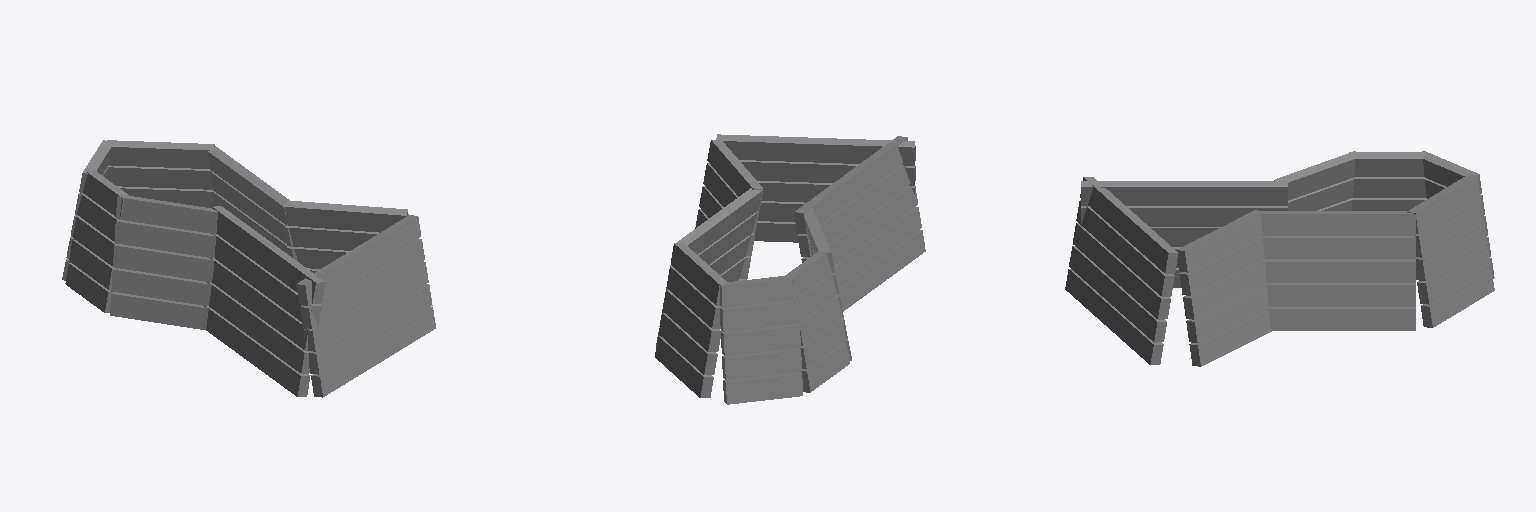
File: WoodenBarrierPartTest00.obj
3 renders of one model, left to right at view 1: azimuth 30°, elevation 25°; view 2: azimuth 150°, elevation 25°; view 3: azimuth 270°, elevation 25°, orthographic.
Visible parts, largest first — view 1: Box064; view 2: Box064; view 3: Box064.
Part boxes in pixels (left/top/right/bottom): Box064: left=62, top=140, right=435, bottom=397; Box064: left=655, top=134, right=925, bottom=404; Box064: left=1065, top=151, right=1494, bottom=366.
Size of the model in its own units: 139 by 63.84 by 222.